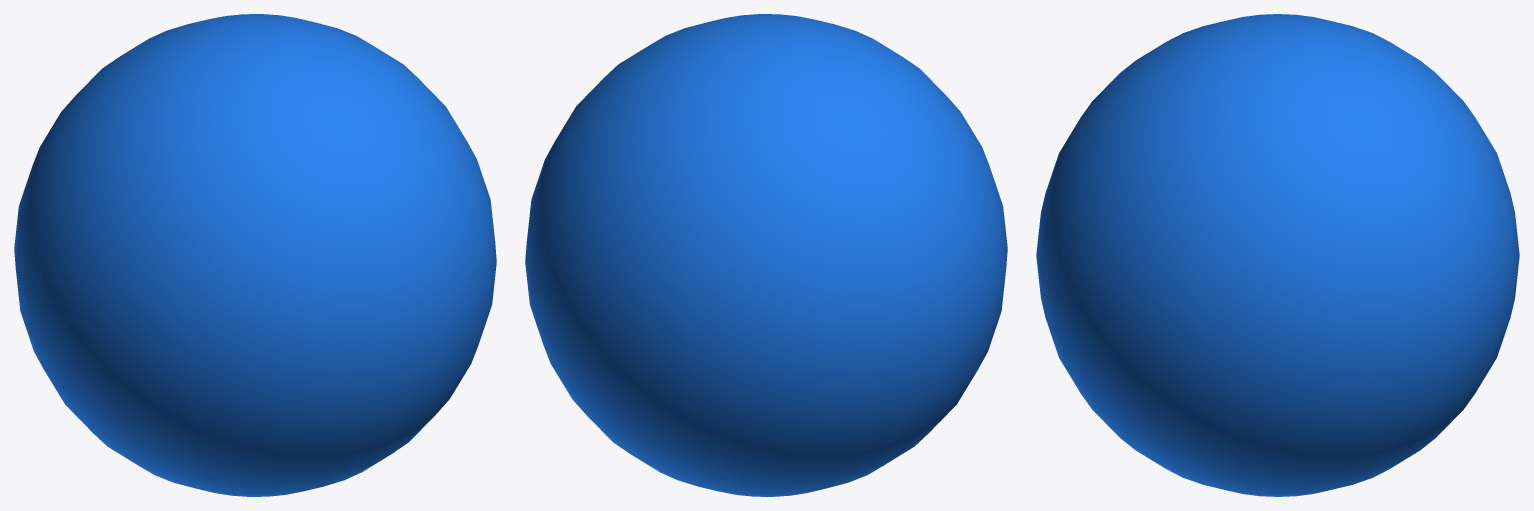
The model's file is Esfera.FBX.
3 renders of one model, left to right at view 1: azimuth 30°, elevation 25°; view 2: azimuth 150°, elevation 25°; view 3: azimuth 270°, elevation 25°, orthographic.
Visible parts, largest first — view 1: Esfera_exterior; view 2: Esfera_exterior; view 3: Esfera_exterior.
Boxes of the visible parts, x1,y1,x2,y2 form: Esfera_exterior: (14, 14, 496, 496); Esfera_exterior: (525, 14, 1007, 496); Esfera_exterior: (1036, 14, 1519, 496).
Bounding box in the file's own units: 20 × 20 × 20.
